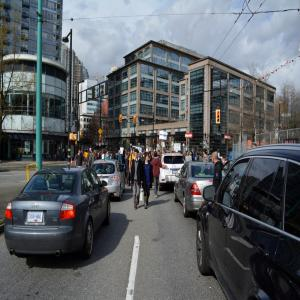Vehicle-registration-plate: (27, 212, 45, 225), (100, 179, 106, 184), (173, 171, 179, 175)
